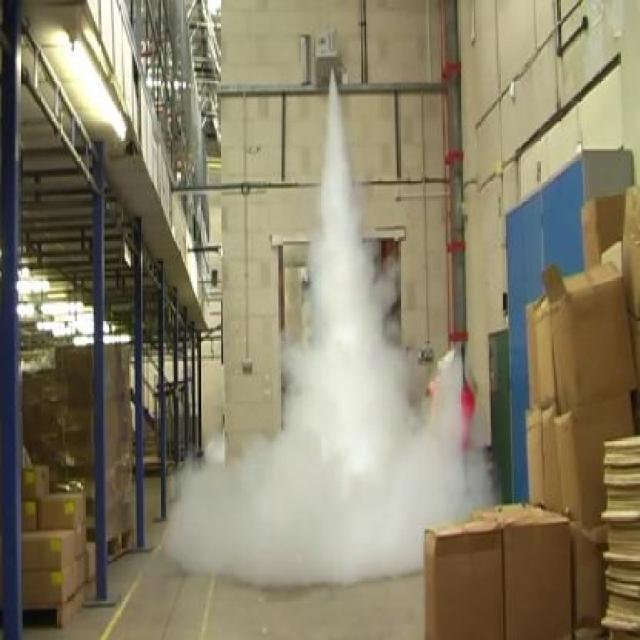fire: (161, 424, 501, 593), (284, 103, 424, 428)
